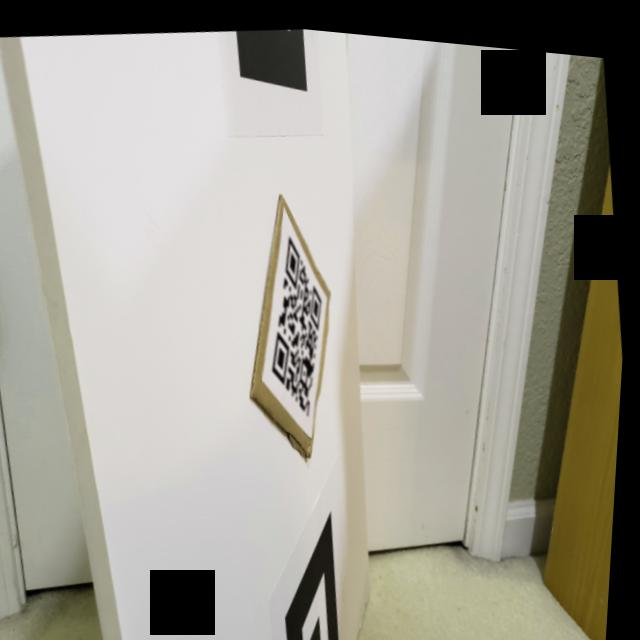QR_CODE: (245, 212, 354, 430)
